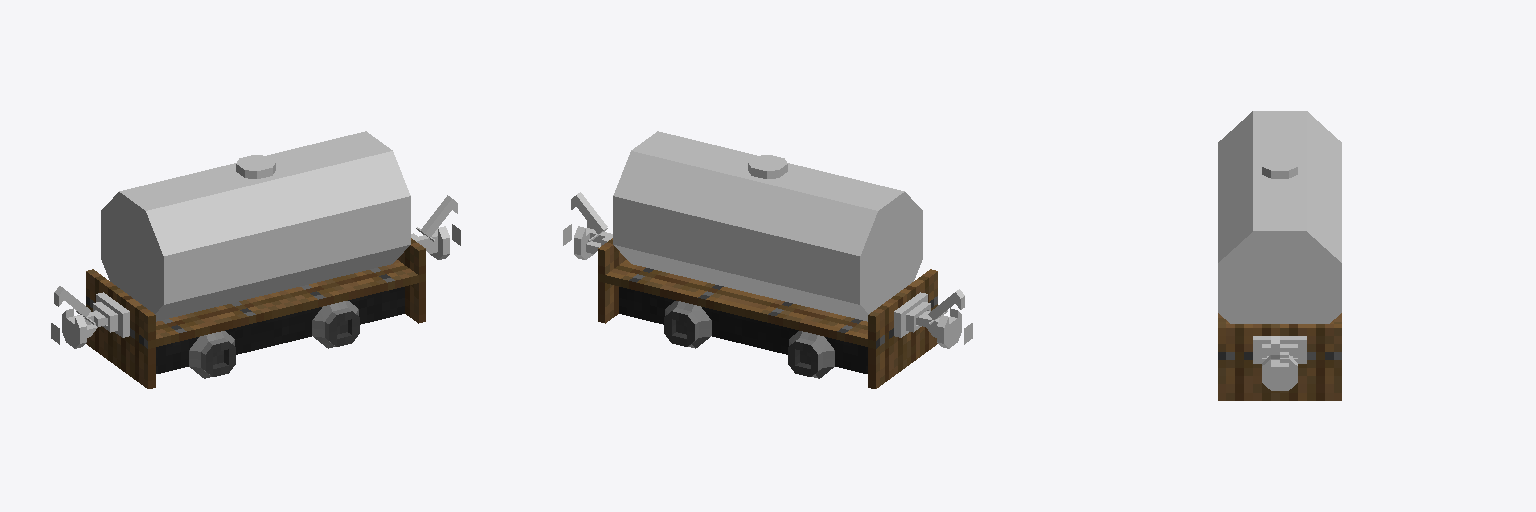
3 renders of one model, left to right at view 1: azimuth 30°, elevation 25°; view 2: azimuth 150°, elevation 25°; view 3: azimuth 270°, elevation 25°, orthographic.
Parts seen in each view (by area): view 1: FRAME.003_Cube, FRAME_Cube.015, COUPLER_ENGAGED_FRONT_1_TOGGLE_LABEL_Uncouple_Cube.003, FRAME_WHEEL_2_Cube.001, FRAME_WHEEL_1_Cube.001, COUPLER_ENGAGED_REAR_2_TOGGLE_LABEL_Uncouple_Cube.003, COUPLED_REAR_2_Cube.008; view 2: FRAME.003_Cube, FRAME_Cube.015, COUPLER_ENGAGED_FRONT_1_TOGGLE_LABEL_Uncouple_Cube.003, FRAME_WHEEL_2_Cube.001, FRAME_WHEEL_1_Cube.001, COUPLER_ENGAGED_REAR_2_TOGGLE_LABEL_Uncouple_Cube.003, COUPLED_REAR_2_Cube.008; view 3: FRAME.003_Cube, FRAME_Cube.015, COUPLER_ENGAGED_REAR_2_TOGGLE_LABEL_Uncouple_Cube.003.
Boxes of the visible parts, <box> form: FRAME.003_Cube: <box>101,131,410,321</box>; FRAME_Cube.015: <box>86,238,425,388</box>; COUPLER_ENGAGED_FRONT_1_TOGGLE_LABEL_Uncouple_Cube.003: <box>51,292,129,348</box>; FRAME_WHEEL_2_Cube.001: <box>312,301,359,348</box>; FRAME_WHEEL_1_Cube.001: <box>189,331,235,378</box>; COUPLER_ENGAGED_REAR_2_TOGGLE_LABEL_Uncouple_Cube.003: <box>411,224,460,259</box>; COUPLED_REAR_2_Cube.008: <box>421,195,457,236</box>; FRAME.003_Cube: <box>613,131,922,321</box>; FRAME_Cube.015: <box>598,238,937,388</box>; COUPLER_ENGAGED_FRONT_1_TOGGLE_LABEL_Uncouple_Cube.003: <box>894,292,972,348</box>; FRAME_WHEEL_2_Cube.001: <box>664,301,711,348</box>; FRAME_WHEEL_1_Cube.001: <box>788,331,834,378</box>; COUPLER_ENGAGED_REAR_2_TOGGLE_LABEL_Uncouple_Cube.003: <box>563,221,612,259</box>; COUPLED_REAR_2_Cube.008: <box>571,192,607,233</box>; FRAME.003_Cube: <box>1218,111,1341,323</box>; FRAME_Cube.015: <box>1218,313,1341,400</box>; COUPLER_ENGAGED_REAR_2_TOGGLE_LABEL_Uncouple_Cube.003: <box>1253,336,1306,390</box>.
Bounding box in the file's own units: 3.25 × 1.44 × 0.875.
Materials: 3 (1 with a texture image).